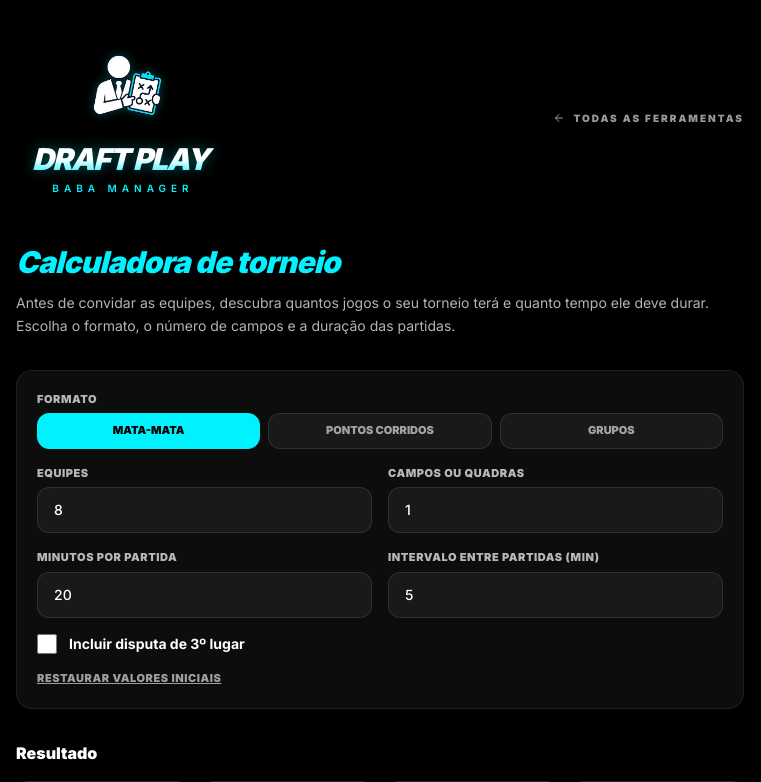
Test: Calculadora de torneio › 8 equipes, mata-mata: 7 jogos; 6 equipes pontos corridos ida e volta: 30
This screenshot has width=761, height=782.
Click the button "Pontos corridos" at [380, 431], box [268,413,492,449]
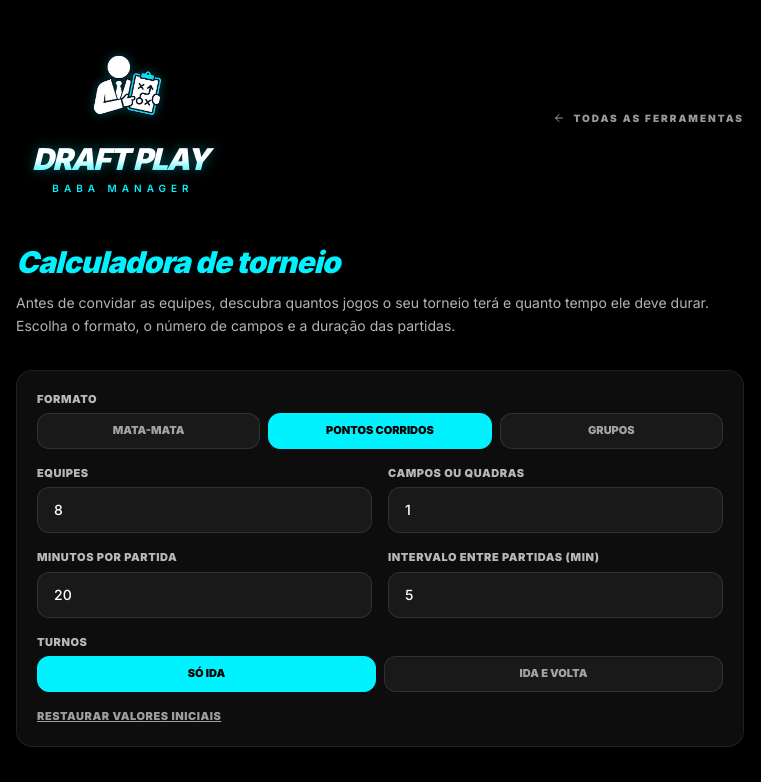
Replace the text in the number field labelled "Equipes" with "6" at [204, 510], box [37,487,372,533]
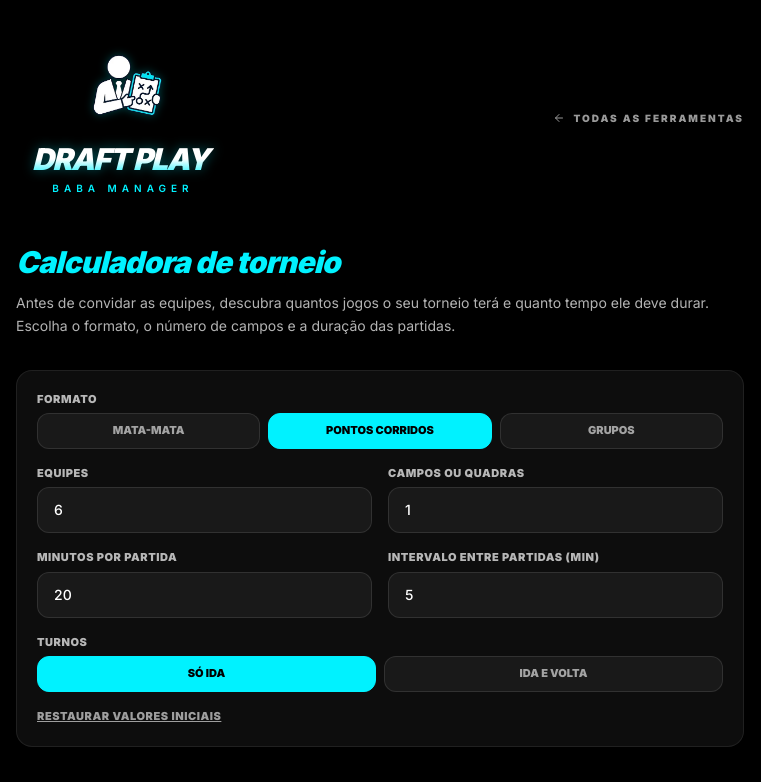
Click the button "Ida e volta" at [554, 674], box [384,656,723,692]
(page scrolled)
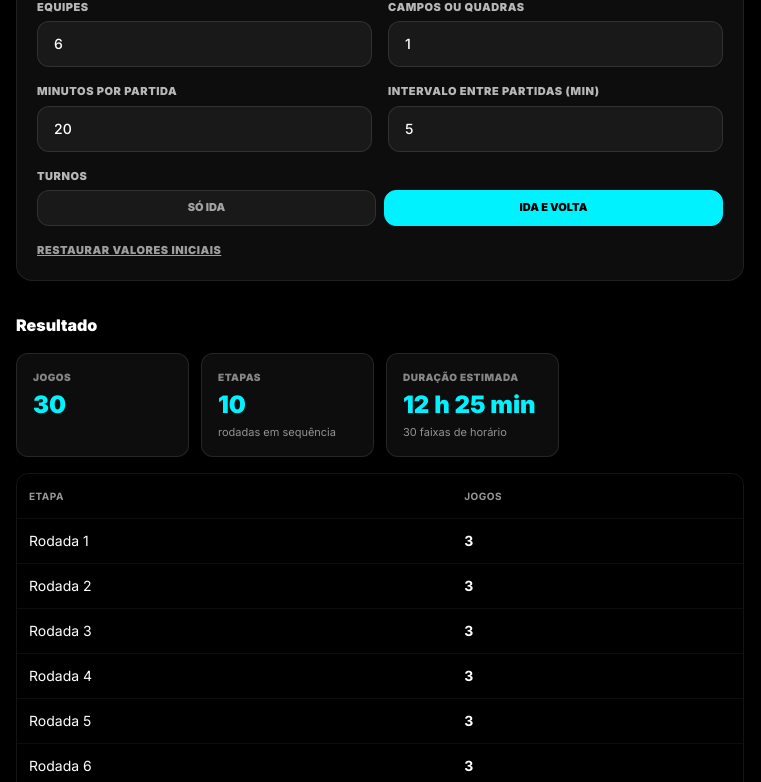
Now the text "30" is shown, box [33,390,66,419]
